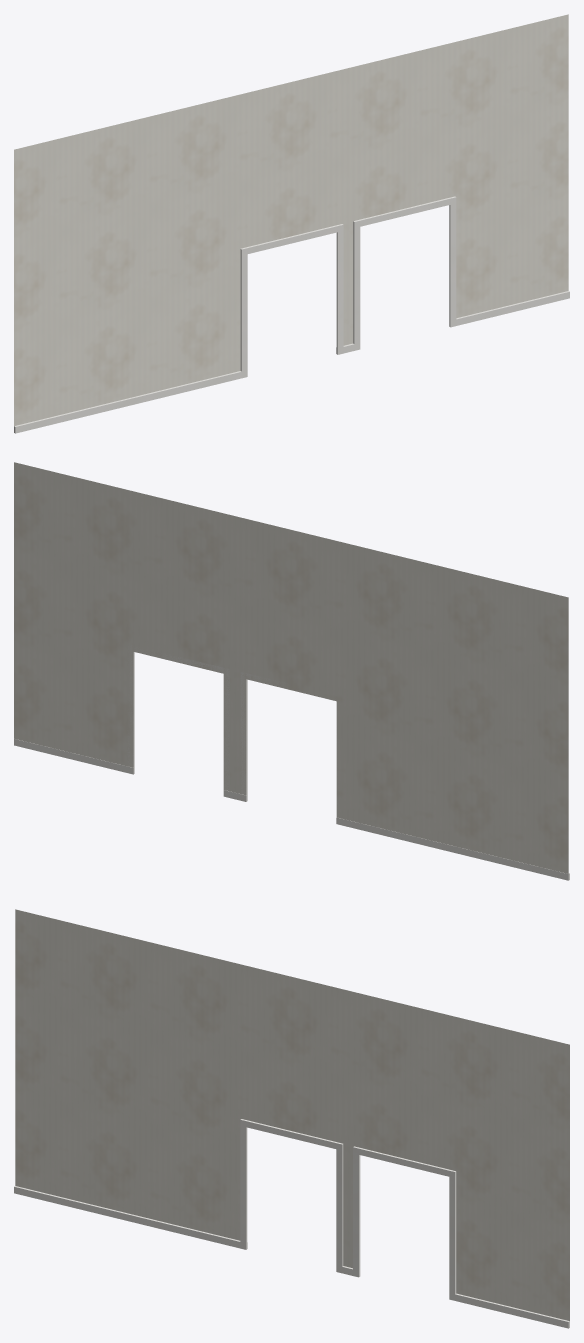
3 renders of one model, top to bottom at view 1: azimuth 30°, elevation 25°; view 2: azimuth 150°, elevation 25°; view 3: azimuth 330°, elevation 25°, orthographic.
Visible parts, largest first — view 1: jx_wm_12_3250a7b5; view 2: jx_wm_12_3250a7b5; view 3: jx_wm_12_3250a7b5.
Part boxes in pixels (x1,y1,x2,y2): jx_wm_12_3250a7b5: (14, 14, 569, 433); jx_wm_12_3250a7b5: (14, 462, 569, 880); jx_wm_12_3250a7b5: (14, 909, 569, 1328).
Size of the model in its own units: 12.3 by 6 by 0.05.
Materials: 2 (2 with a texture image).
